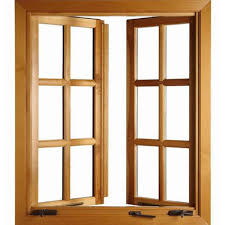window: (15, 2, 210, 224)
